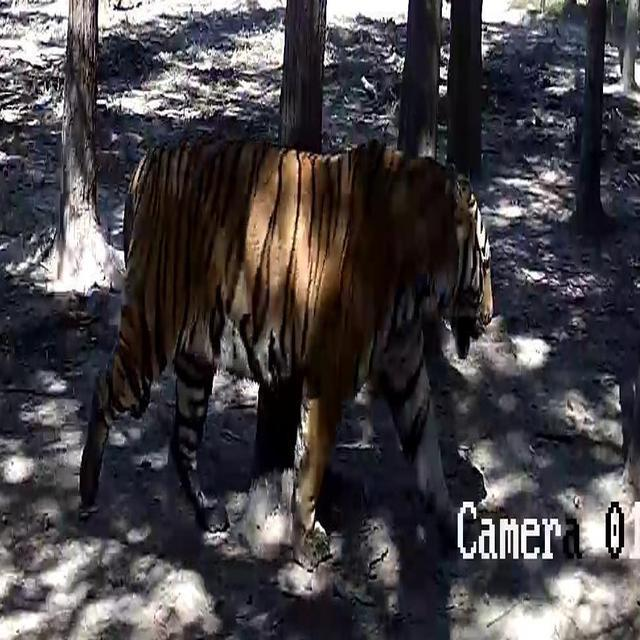tiger: (70, 115, 518, 560)
